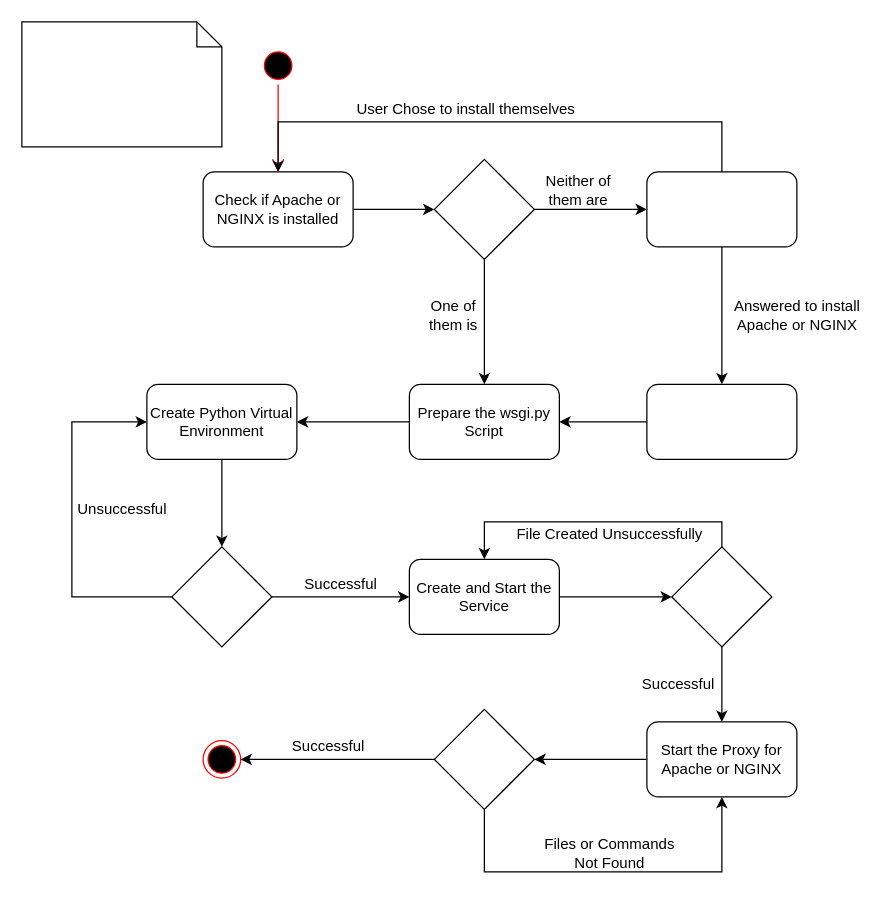
Some shapes in this 894 by 904 pixel diagram are drawn without their labels. The centre of each missing label's shape, as x and y in pixels:
"Answer Prompt for Apache or NGINX Install" belongs at [721,209].
"Client is preparing to set up the Augur_View" belongs at [121,84].
"Install Apache or NGINX depending on answer" belongs at [721,421].
